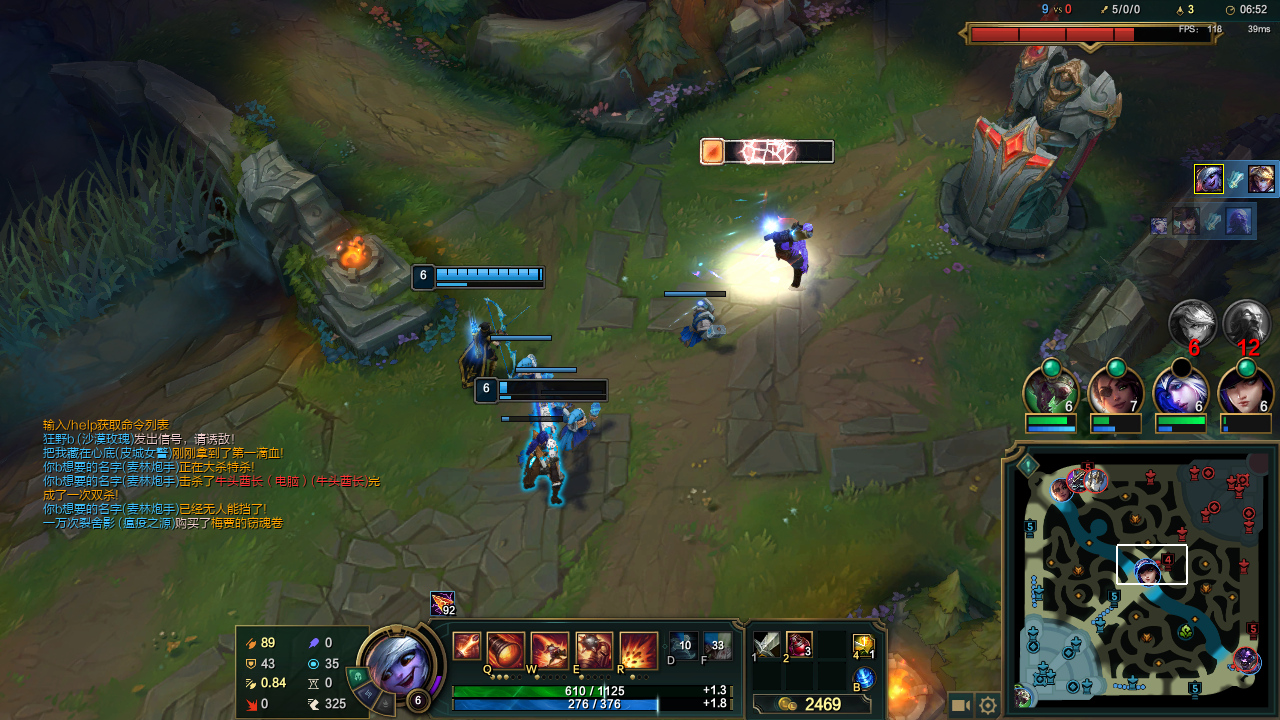DFFYT: (945, 53, 1106, 275)
WFXB: (668, 304, 729, 353), (563, 403, 607, 446), (506, 352, 542, 383)
Yita: (1186, 677, 1205, 700)
